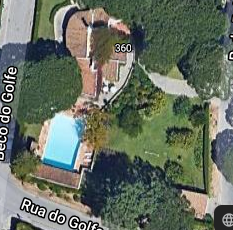pool: (52, 118, 77, 165)
